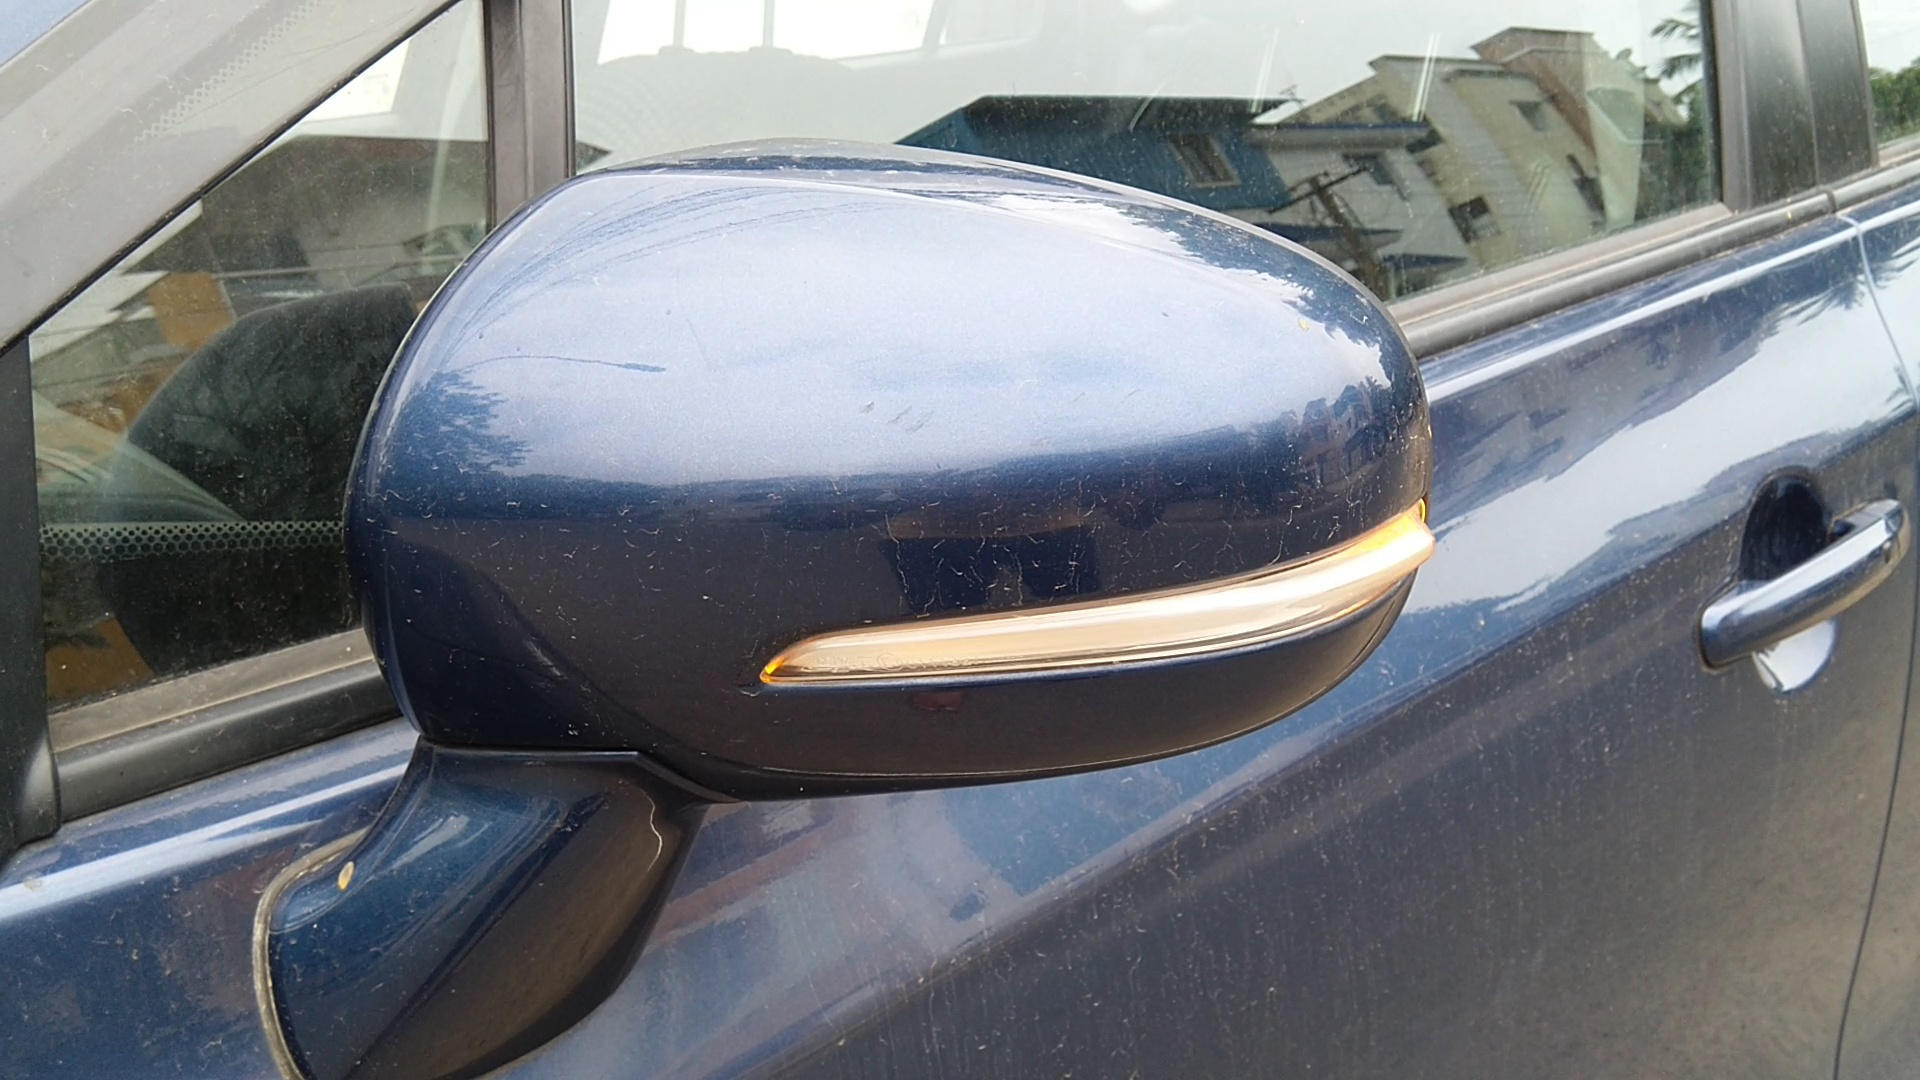ovr_mirror: (204, 109, 1481, 1080)
